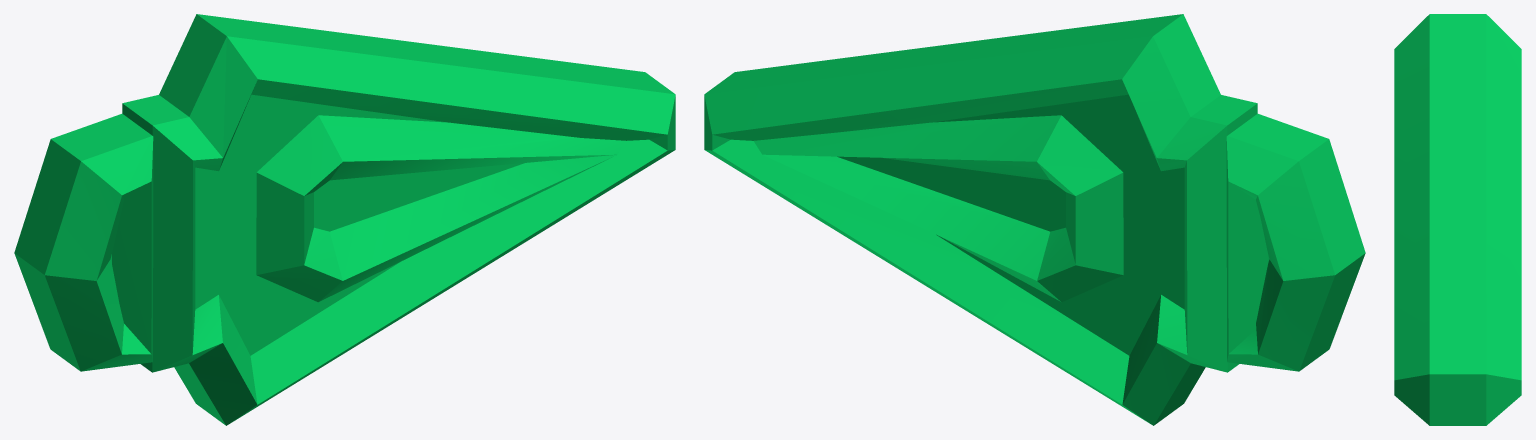
File: pine2c.glb
The picture shows the model from 3 angles, left to right: view 1: azimuth 30°, elevation 25°; view 2: azimuth 150°, elevation 25°; view 3: azimuth 270°, elevation 25°; orthographic projection. The views are drawn at different scales.
Visible parts, largest first — view 1: root; view 2: root; view 3: root.
Part boxes in pixels (bbox=[...]): root: bbox=[14, 14, 675, 425]; root: bbox=[704, 14, 1365, 425]; root: bbox=[1394, 14, 1521, 425].
Size of the model in its own units: 2.87 by 1.7 by 0.5398.
